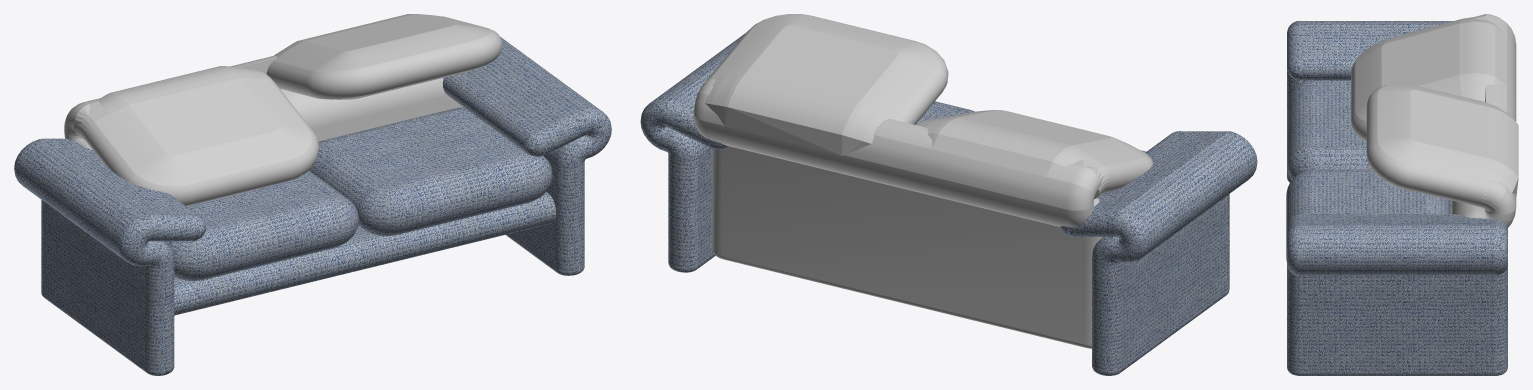
File: Maralunga.dae
3 views of the same model, side by side, from view 1: azimuth 30°, elevation 25°; view 2: azimuth 150°, elevation 25°; view 3: azimuth 270°, elevation 25° (orthographic). The views are drawn at different scales.
Parts seen in each view (by area): view 1: group_1 (×3), group_4, group_2, group_3; view 2: group_4, group_1 (×2), group_2; view 3: group_1 (×2), group_4, group_3, group_2.
Boxes of the visible parts, bbox=[...] form: group_1 (×3): bbox=[14, 36, 611, 375]; group_4: bbox=[64, 14, 502, 206]; group_2: bbox=[309, 107, 552, 236]; group_3: bbox=[163, 170, 359, 280]; group_4: bbox=[693, 14, 1152, 348]; group_1 (×2): bbox=[640, 33, 1257, 375]; group_2: bbox=[916, 101, 974, 124]; group_1 (×2): bbox=[1287, 20, 1507, 375]; group_4: bbox=[1351, 14, 1518, 227]; group_3: bbox=[1287, 80, 1371, 180]; group_2: bbox=[1286, 169, 1450, 261].
Bounding box in the file's own units: 82.44 × 35.62 × 34.84.
